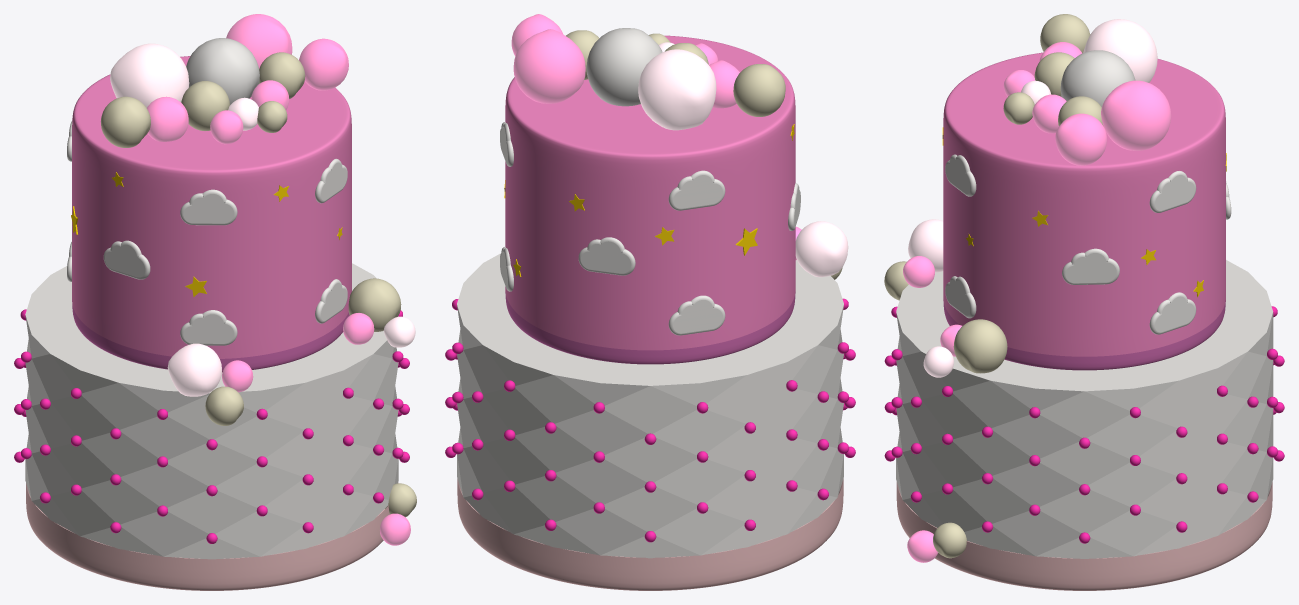
The model's file is Christening_5.glb.
The picture shows the model from 3 angles, left to right: view 1: azimuth 30°, elevation 25°; view 2: azimuth 150°, elevation 25°; view 3: azimuth 270°, elevation 25°; orthographic projection. The views are drawn at different scales.
Visible parts, largest first — view 1: Cylinder, Circle.002, Sphere.022, Sphere.021, Cloud.001, Cloud, Sphere.008, Sphere.023, Sphere.020, Sphere.017, Sphere.026, Sphere.018 (+19 smaller); view 2: Cylinder, Circle.002, Sphere.022, Sphere.023, Sphere.021, Sphere.008, Sphere.020, Cloud.001, Cloud, Cloud.002, Sphere.019, Sphere.017 (+7 smaller); view 3: Cylinder, Circle.002, Sphere.023, Sphere.021, Sphere.022, Sphere.026, Cloud, Cloud.001, Sphere.017, Cloud.002, Sphere.008, Sphere.020 (+16 smaller).
Boxes of the visible parts, left/top/right/bottom form: Cylinder: left=25, top=263, right=398, bottom=590; Circle.002: left=72, top=56, right=351, bottom=372; Sphere.022: left=110, top=43, right=189, bottom=107; Sphere.021: left=186, top=38, right=259, bottom=104; Cloud.001: left=67, top=121, right=347, bottom=225; Cloud: left=67, top=242, right=347, bottom=345; Sphere.008: left=167, top=343, right=221, bottom=396; Sphere.023: left=226, top=14, right=292, bottom=68; Sphere.020: left=100, top=96, right=150, bottom=147; Sphere.017: left=299, top=38, right=348, bottom=90; Sphere.026: left=348, top=278, right=401, bottom=331; Sphere.018: left=181, top=81, right=229, bottom=130; Cylinder: left=457, top=253, right=843, bottom=590; Circle.002: left=505, top=35, right=795, bottom=364; Sphere.022: left=638, top=49, right=716, bottom=130; Sphere.023: left=513, top=29, right=585, bottom=103; Sphere.021: left=586, top=28, right=662, bottom=106; Sphere.008: left=795, top=221, right=848, bottom=277; Sphere.020: left=733, top=64, right=785, bottom=116; Cloud.001: left=500, top=122, right=725, bottom=210; Cloud: left=500, top=246, right=725, bottom=335; Cloud.002: left=578, top=183, right=800, bottom=275; Sphere.019: left=709, top=60, right=739, bottom=108; Sphere.017: left=511, top=14, right=562, bottom=56; Cylinder: left=896, top=260, right=1273, bottom=590; Circle.002: left=943, top=52, right=1225, bottom=370; Sphere.023: left=1101, top=80, right=1171, bottom=150; Sphere.021: left=1060, top=50, right=1135, bottom=107; Sphere.022: left=1083, top=19, right=1157, bottom=82; Sphere.026: left=953, top=319, right=1007, bottom=373; Cloud: left=945, top=276, right=1196, bottom=334; Cloud.001: left=945, top=154, right=1196, bottom=212; Sphere.017: left=1055, top=113, right=1107, bottom=165; Cloud.002: left=1062, top=181, right=1231, bottom=284; Sphere.008: left=908, top=219, right=943, bottom=272; Sphere.020: left=1040, top=14, right=1090, bottom=53.
Bounding box in the file's own units: 0.2121 × 0.2755 × 0.2123.
